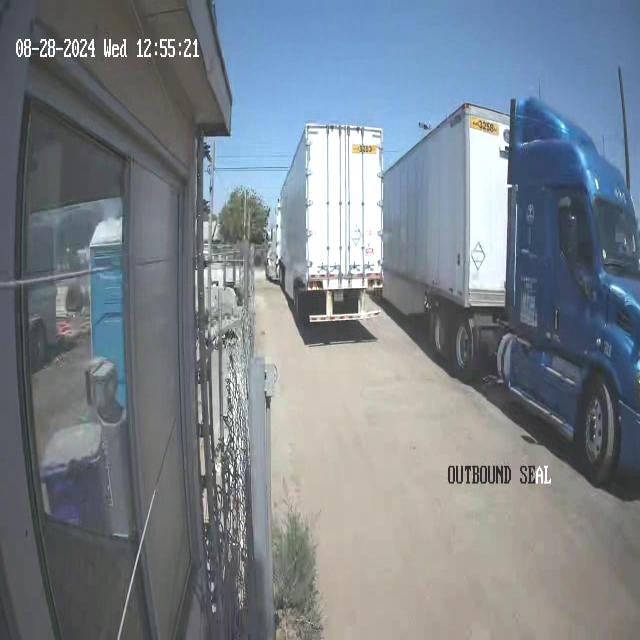CONTAINER: (386, 106, 508, 306), (276, 121, 384, 322)
